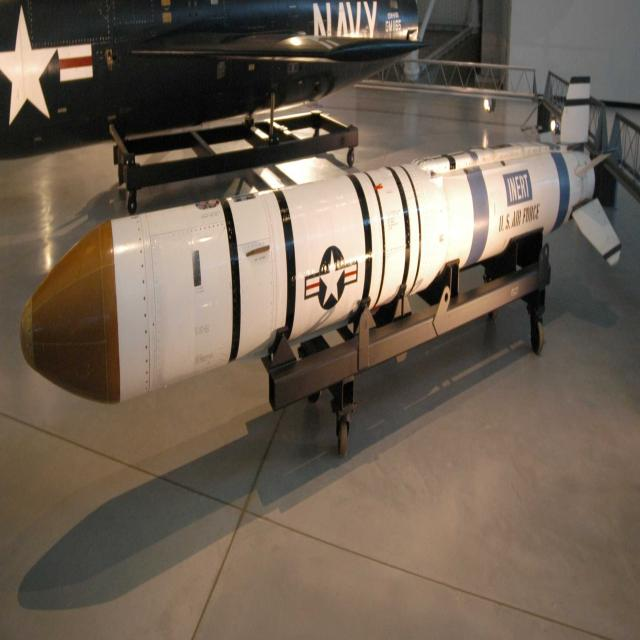missile: (21, 70, 624, 407)
